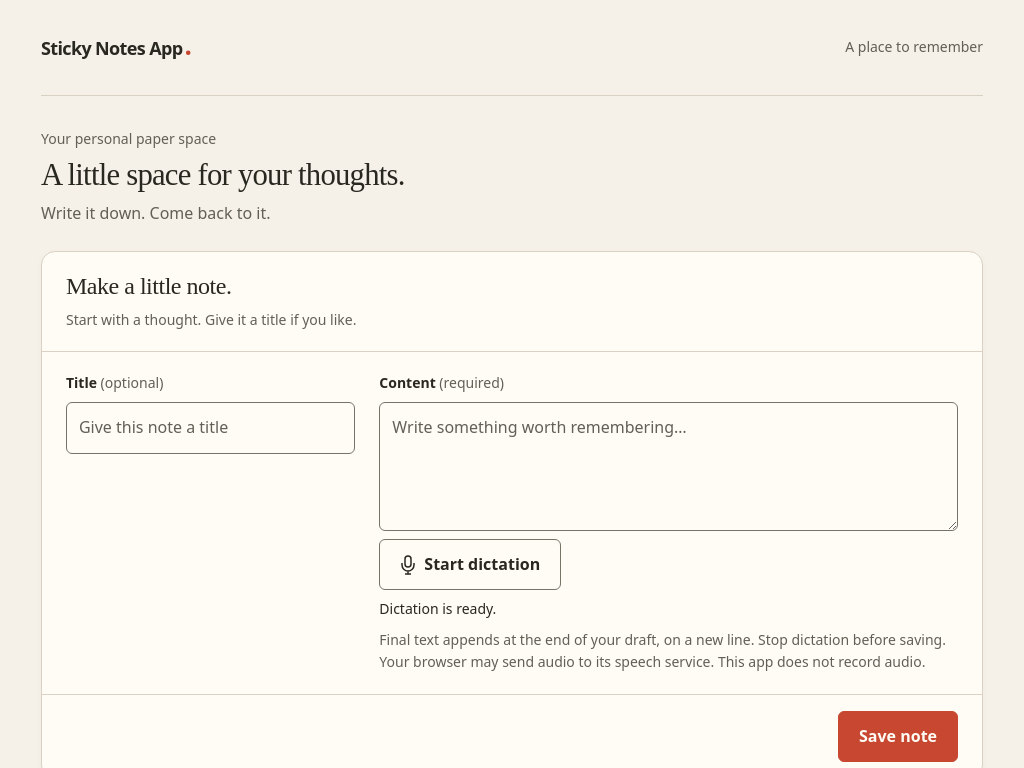
Test: create / persist / display / remount › saves exactly one valid note with title , then clears the composer
Type "A thought worth keeping" into the text box labelled "Content (required)" at (669, 467), box x1=379 y1=402 x2=958 y2=531
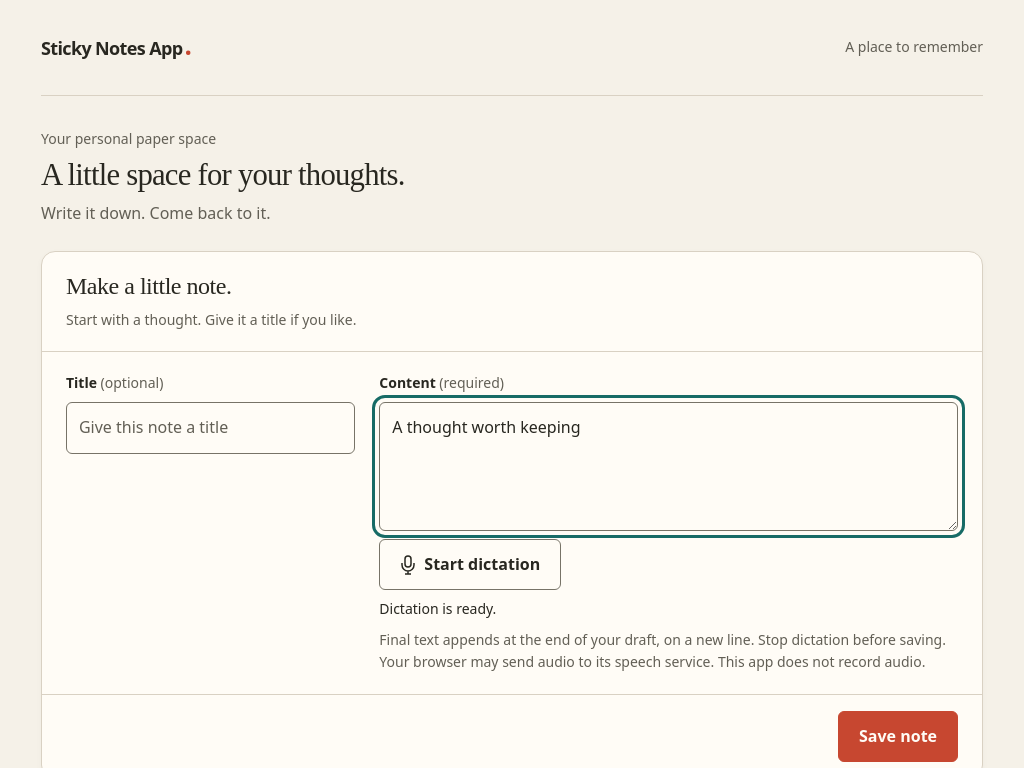
Click the button "Save note" at (898, 736), box x1=838 y1=710 x2=958 y2=762
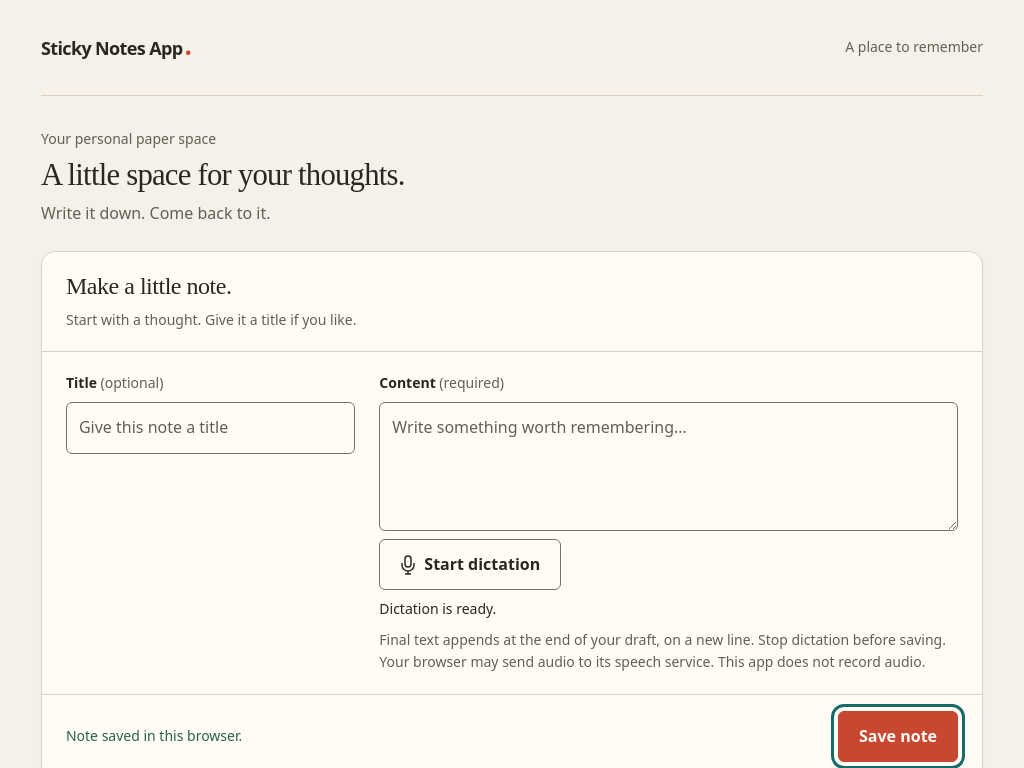
Expected: the field labelled "Title (optional)" is empty, x1=66 y1=402 x2=355 y2=454
Now the message reads "Note saved in this browser.", box x1=66 y1=726 x2=242 y2=745
Now the text box labelled "Content (required)" is empty, box x1=379 y1=402 x2=958 y2=531
